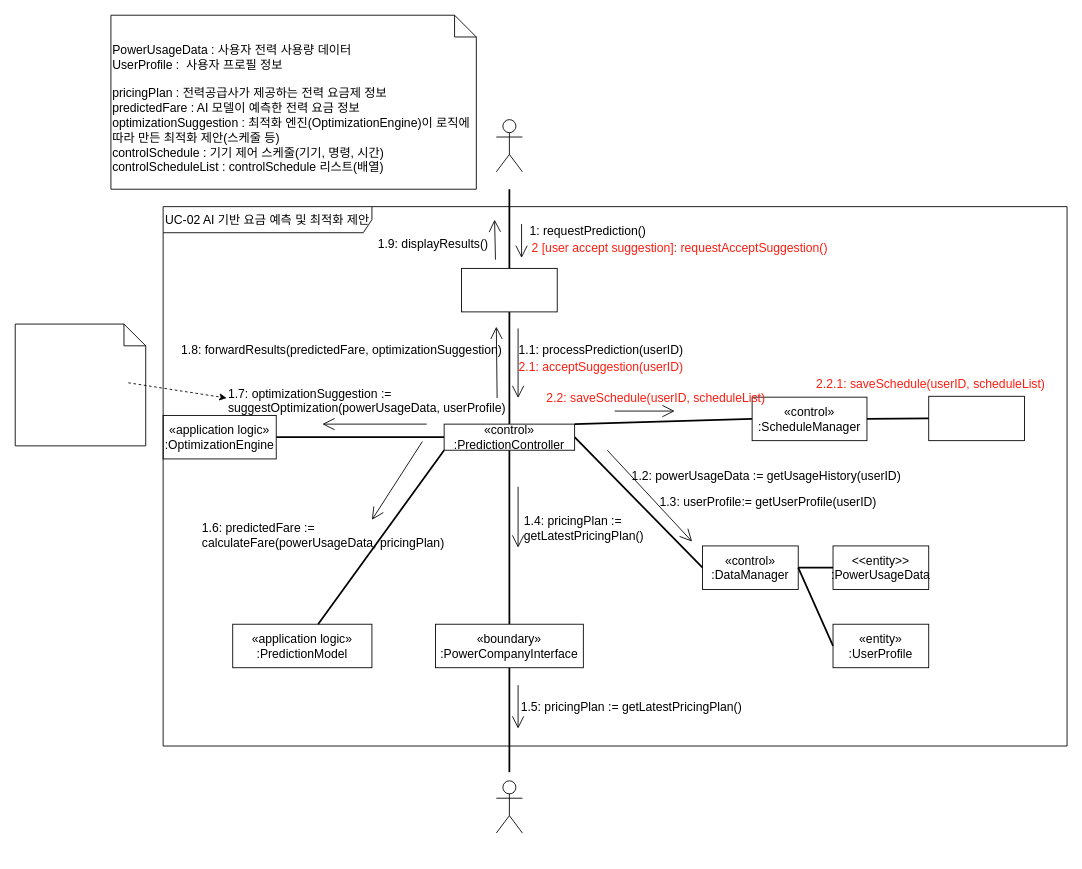
Image size: 1082x869. Some labels were removed from this diagram. Each missing label, with the centre of its shape:
"<<entity>> :controlSchedule" belongs at (x=976, y=418).
"optimizationSuggestion - controlScheduleList - suggestion" belongs at (x=80, y=384).
"«boundary» :UserInterface" belongs at (x=509, y=290).
"사용자" belongs at (x=508, y=145).
"전력공급사" belongs at (x=508, y=806).
